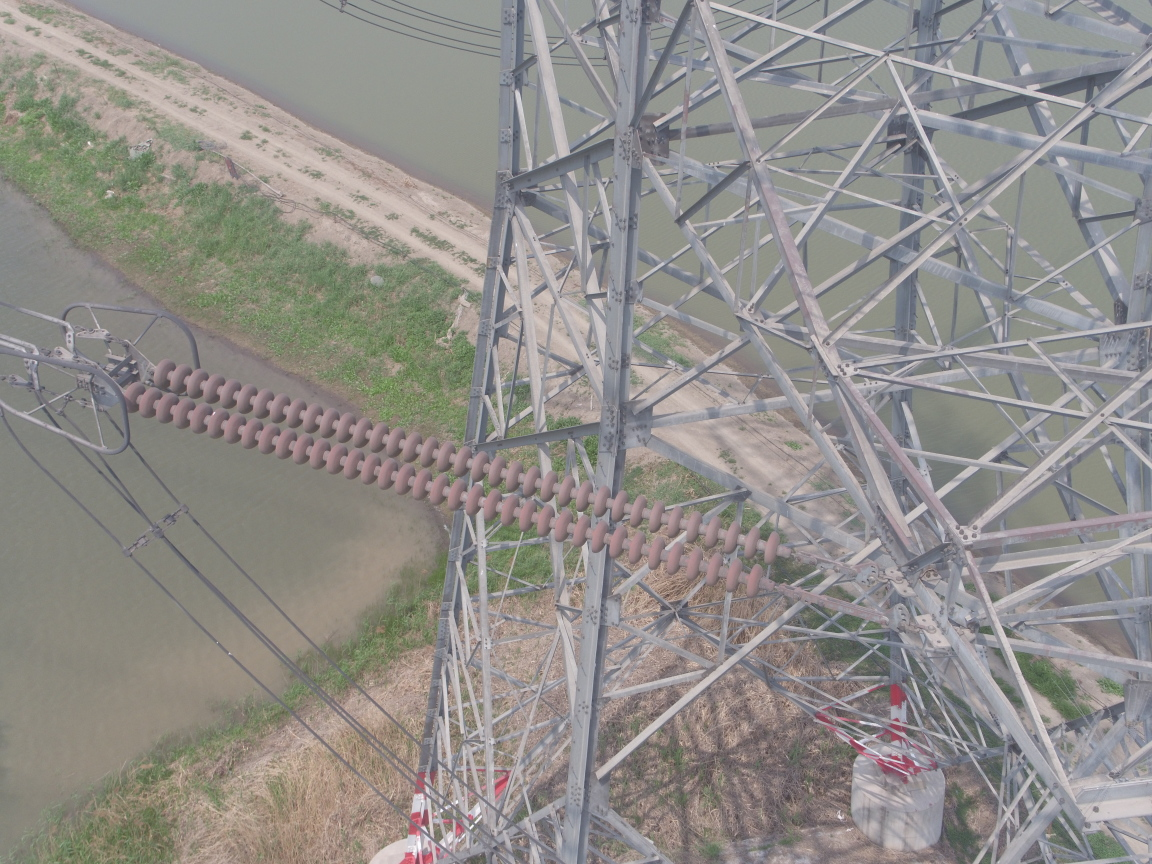insulator: (104, 354, 851, 603)
